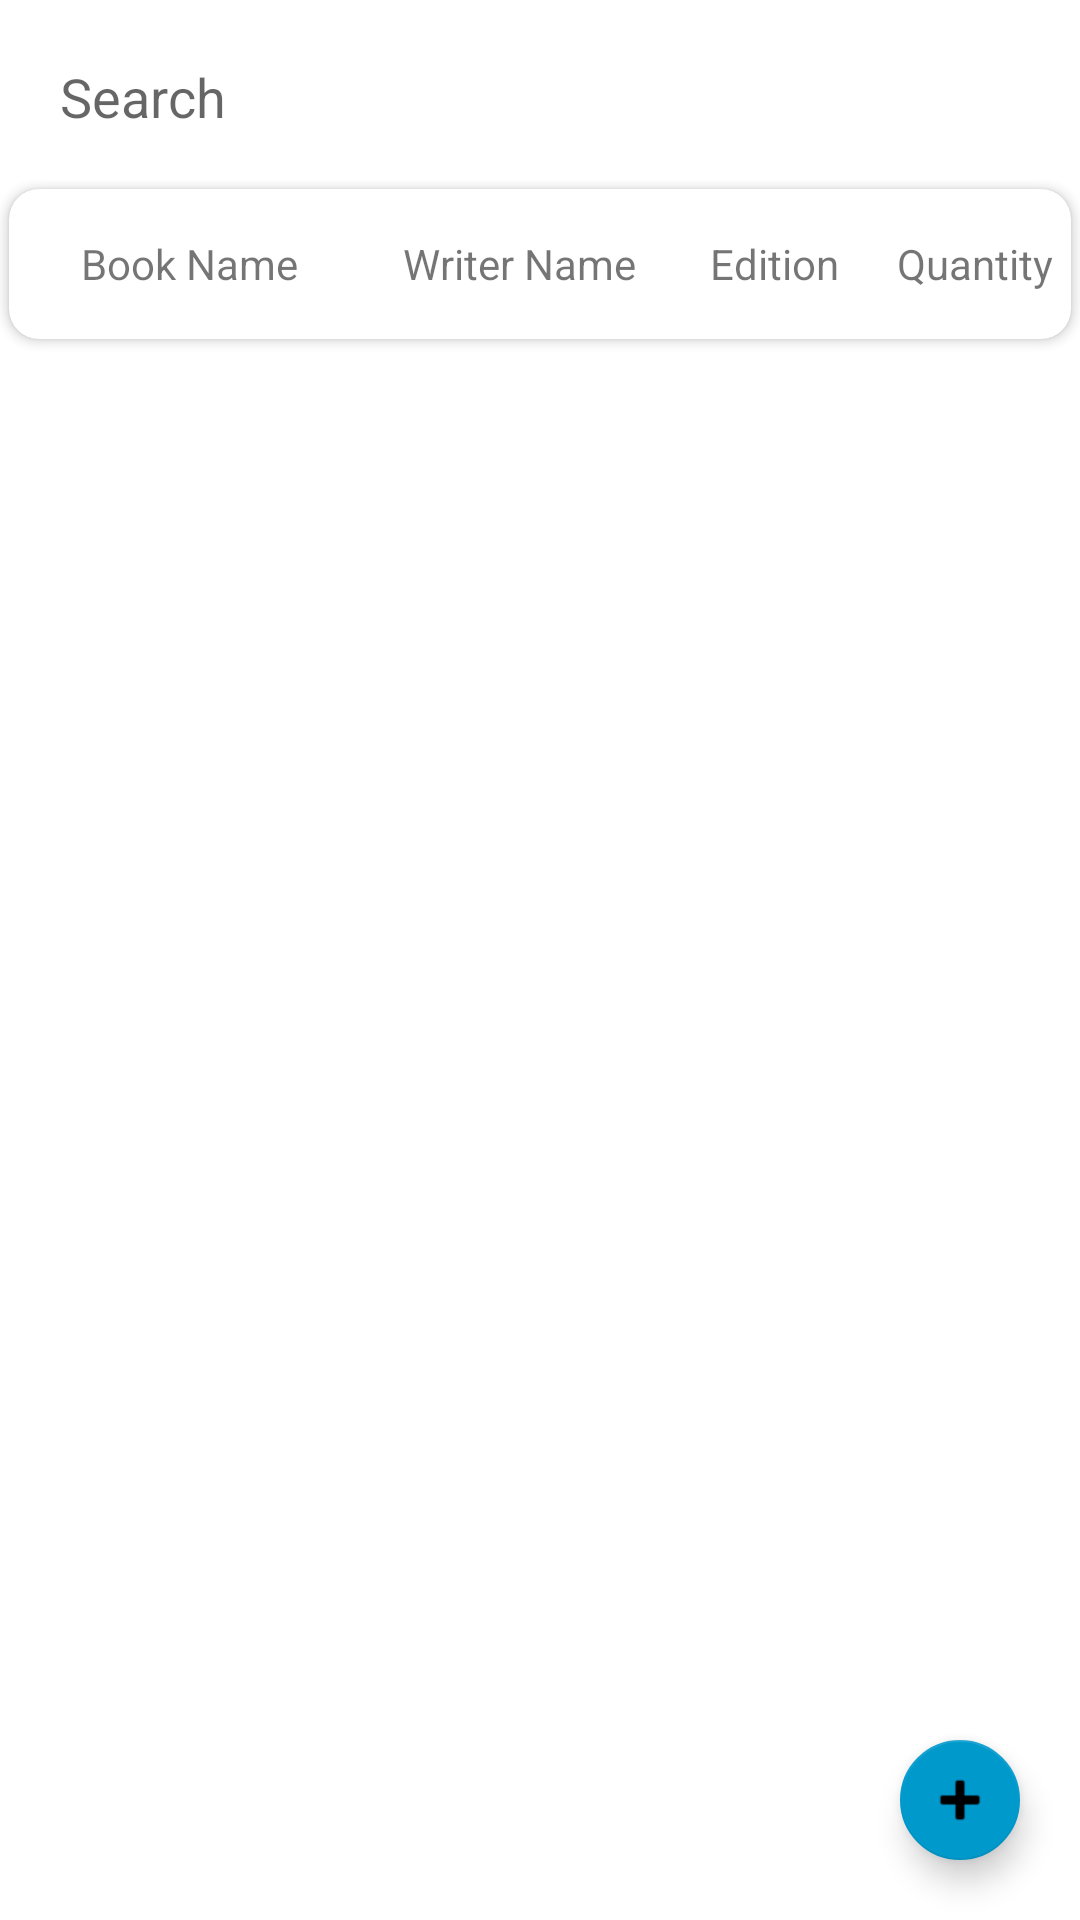

Icon bounding boxes for this 1080px×1920px phone screenshot, format [left=x1, top=y1, right=x2, bottom=y2]:
add: [left=900, top=1740, right=1022, bottom=1872]
